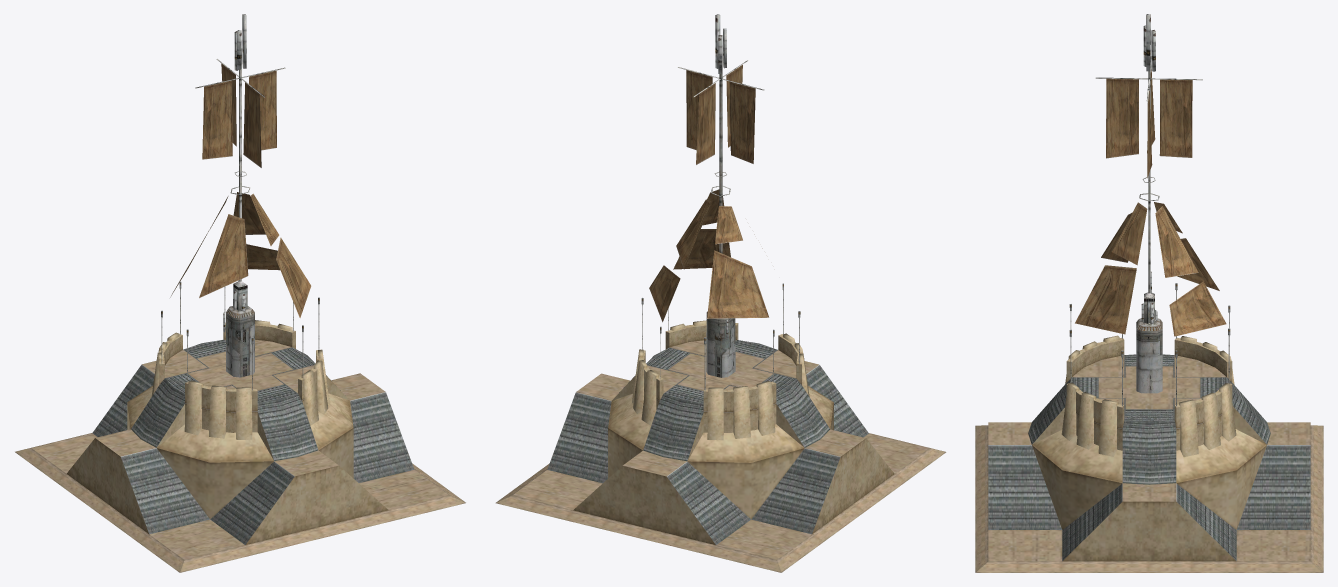
Rendered from ply_tato_bank_s01_l2.fbx.
3 views of the same model, side by side, from view 1: azimuth 30°, elevation 25°; view 2: azimuth 150°, elevation 25°; view 3: azimuth 270°, elevation 25° (orthographic). The views are drawn at different scales.
Visible parts, largest first — view 1: mesh_node; view 2: mesh_node; view 3: mesh_node.
Boxes of the visible parts, <box> form: mesh_node: <box>15,14,465,572</box>; mesh_node: <box>495,14,946,572</box>; mesh_node: <box>975,14,1323,572</box>.
Bounding box in the file's own units: 16 × 24.64 × 16.
Materials: 1 (1 with a texture image).
